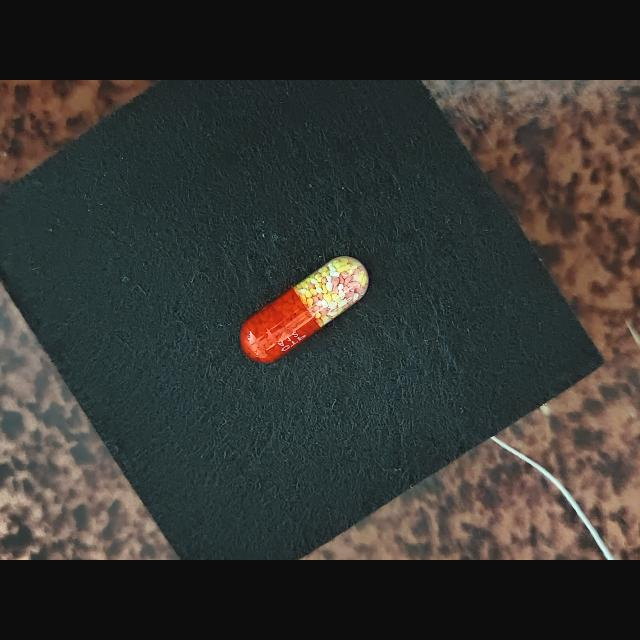Intact Capsule: (240, 256, 369, 363)
